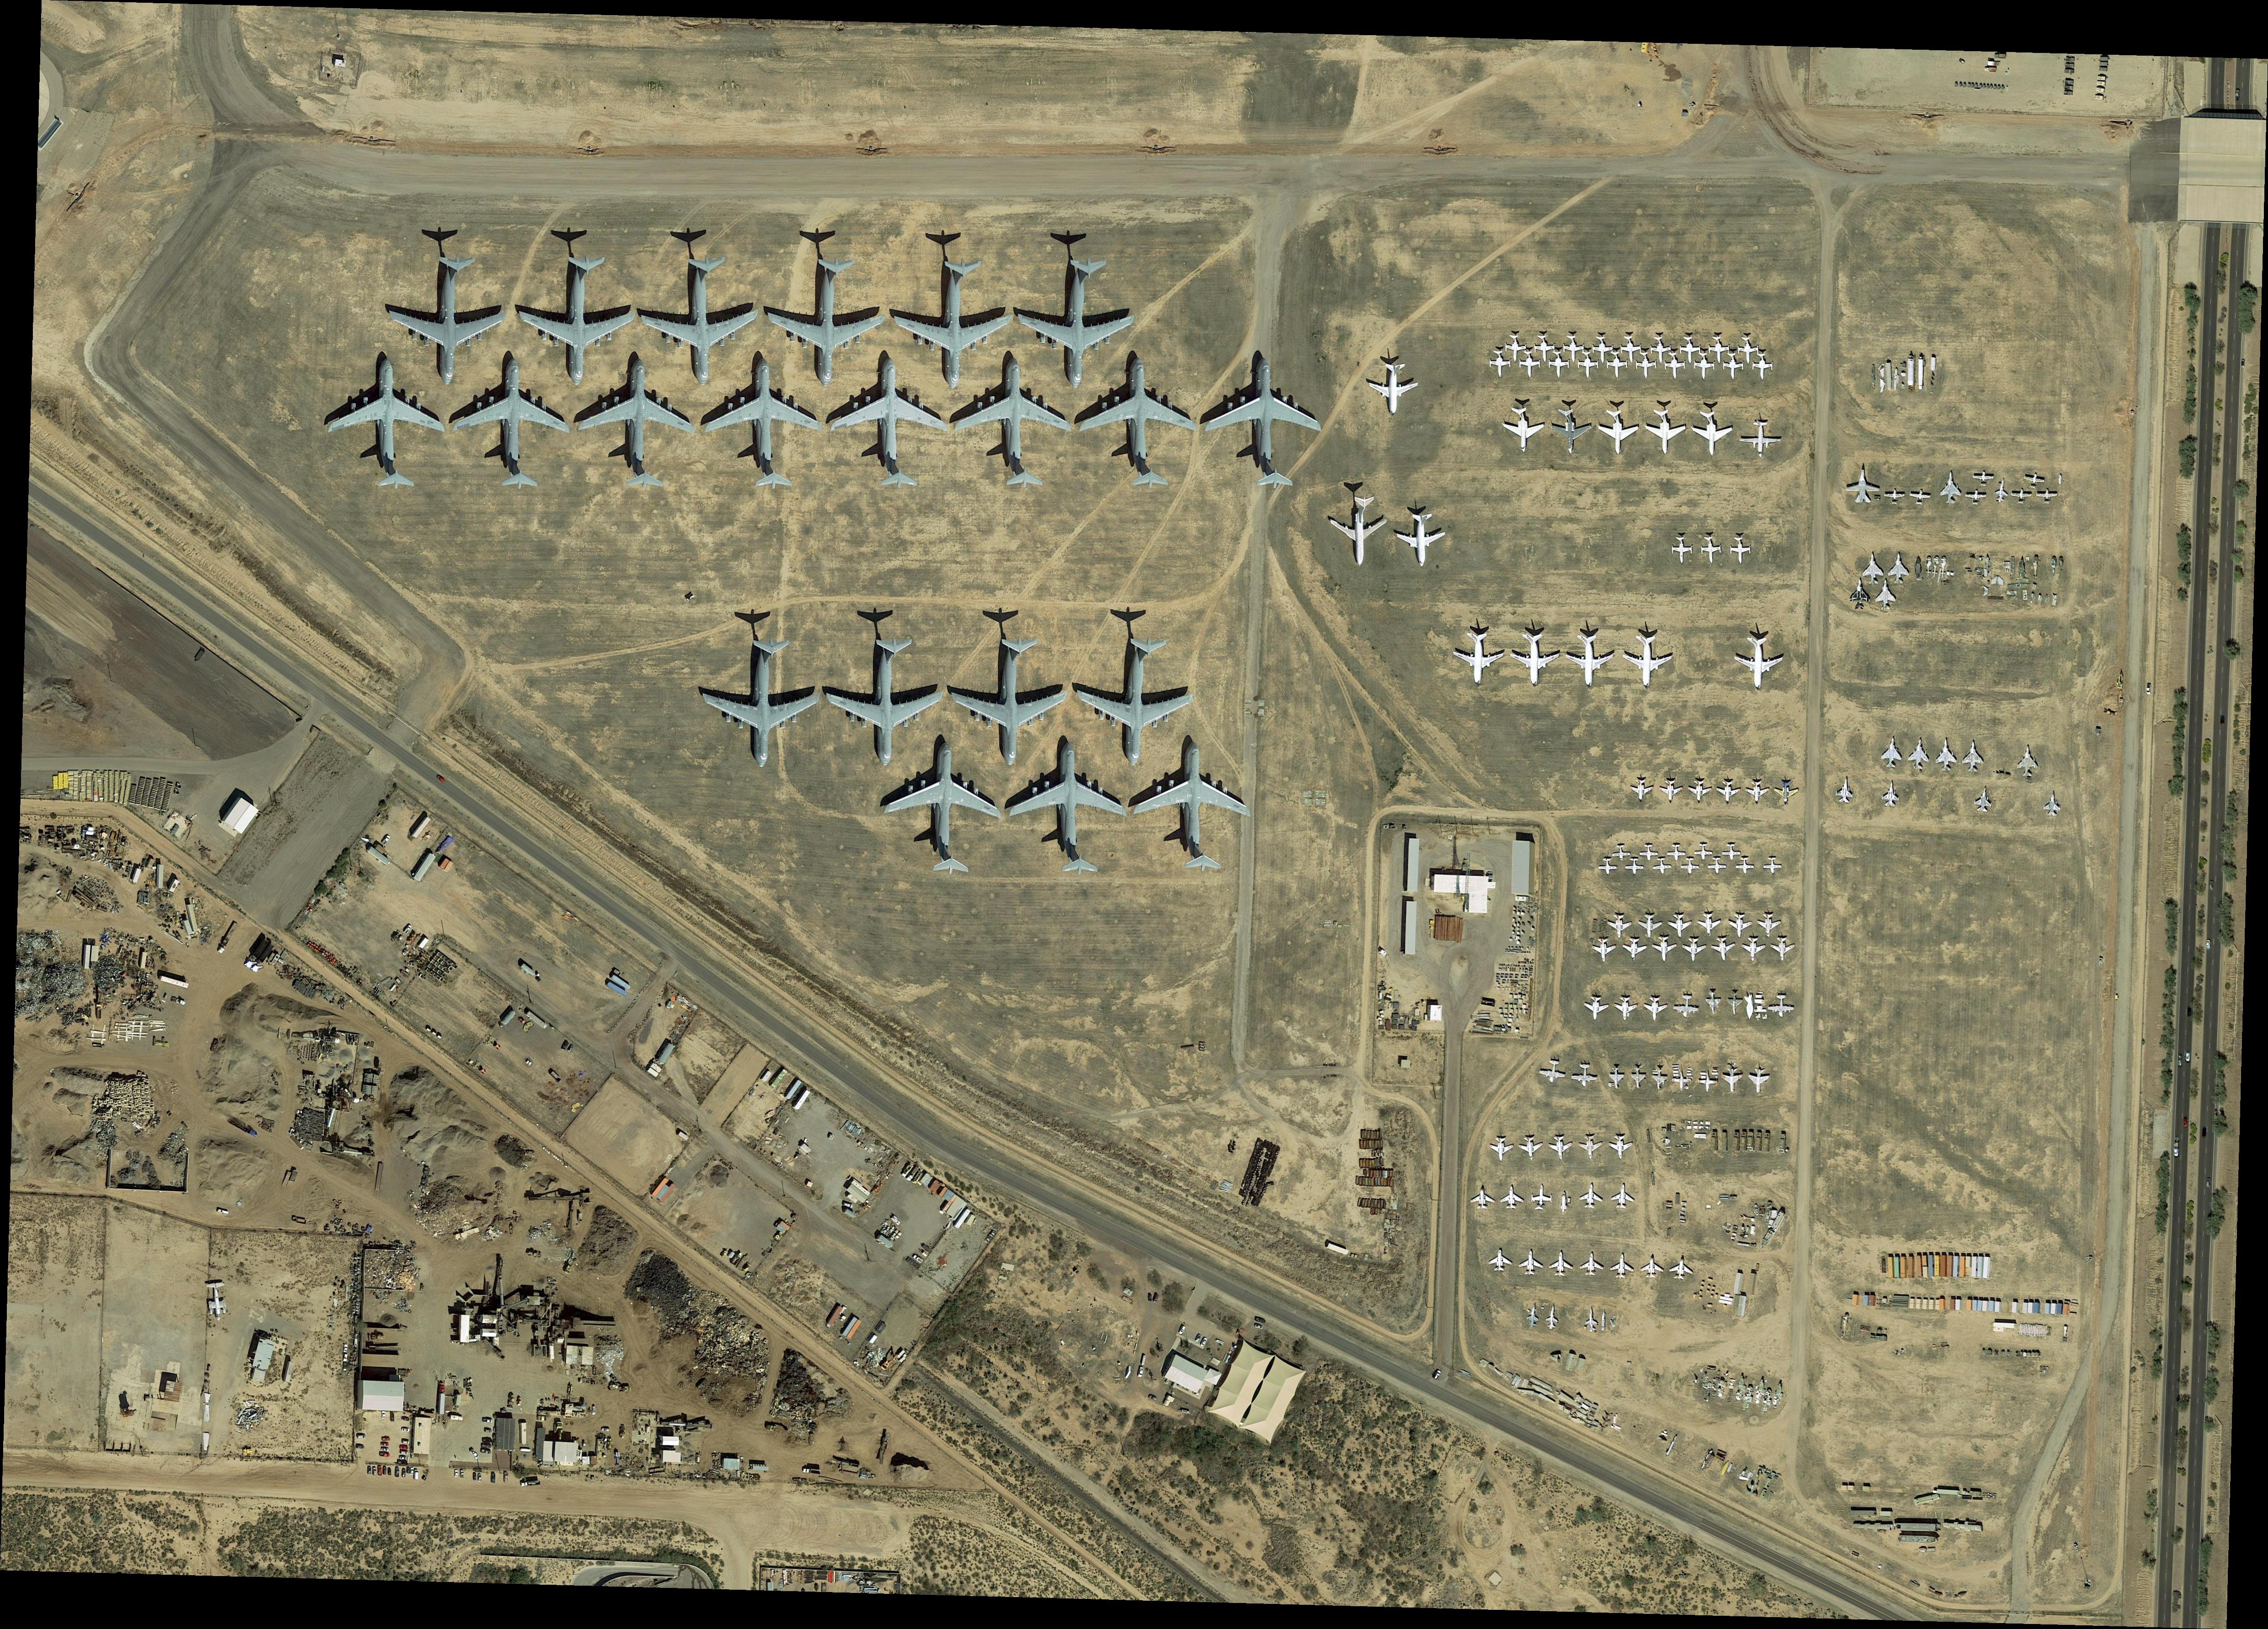plane: (882, 736, 1009, 877), (822, 636, 951, 773), (514, 255, 641, 394), (1199, 354, 1328, 490), (1005, 740, 1130, 879), (386, 252, 511, 391), (891, 255, 1018, 391), (764, 255, 891, 391), (639, 255, 766, 391), (574, 356, 701, 491), (1074, 354, 1201, 488), (949, 636, 1074, 771), (447, 354, 572, 490), (826, 352, 949, 488), (326, 354, 449, 490), (1018, 255, 1139, 393), (1072, 638, 1197, 770), (951, 354, 1074, 488), (701, 638, 822, 773), (1132, 740, 1252, 873), (704, 356, 824, 490), (1326, 495, 1389, 569), (1451, 630, 1506, 689), (1620, 634, 1675, 690), (1366, 363, 1419, 417), (1396, 512, 1447, 569), (1733, 636, 1784, 692), (1509, 634, 1560, 689), (1564, 634, 1615, 689), (1546, 407, 1594, 458), (1500, 405, 1544, 456), (1595, 409, 1641, 456), (1643, 409, 1687, 456), (1690, 410, 1733, 458), (1738, 417, 1782, 460), (1844, 461, 1881, 504), (204, 1280, 229, 1324), (1579, 993, 1611, 1023), (1535, 1058, 1569, 1087), (1879, 734, 1905, 770), (1907, 736, 1933, 771), (1962, 738, 1986, 775), (1608, 1182, 1638, 1212), (1939, 468, 1962, 505), (1935, 736, 1958, 773), (1710, 933, 1738, 963), (1685, 778, 1715, 807), (1588, 935, 1618, 963), (1747, 1065, 1773, 1097), (1847, 578, 1872, 611), (1888, 551, 1911, 586), (2016, 743, 2039, 778), (1650, 935, 1678, 963), (1518, 1134, 1546, 1162), (1620, 937, 1650, 963), (1766, 993, 1796, 1020), (1671, 993, 1701, 1020), (1720, 1064, 1745, 1095), (1972, 782, 1997, 814), (1861, 553, 1884, 586), (1741, 935, 1768, 963), (1726, 912, 1752, 940), (1696, 912, 1722, 940), (1638, 912, 1664, 940), (1606, 914, 1634, 940), (1571, 1062, 1599, 1088), (1578, 1182, 1604, 1210), (1548, 1134, 1576, 1161), (1578, 1250, 1604, 1279), (1609, 1252, 1636, 1280), (1706, 335, 1731, 365), (1692, 352, 1717, 382), (1648, 335, 1673, 365), (1504, 333, 1527, 365), (1875, 579, 1898, 611), (1682, 937, 1708, 963), (1770, 935, 1796, 962), (1756, 914, 1782, 940), (1666, 914, 1692, 940), (1773, 780, 1800, 807), (1745, 780, 1771, 807), (1488, 1136, 1514, 1162), (1578, 1134, 1604, 1161), (1643, 997, 1669, 1023), (1613, 997, 1639, 1023), (1657, 778, 1683, 805), (1629, 777, 1655, 803), (1518, 1249, 1544, 1275), (1548, 1250, 1574, 1277), (1669, 1254, 1696, 1280), (1715, 780, 1743, 805), (1606, 1136, 1634, 1161), (1696, 1067, 1720, 1095), (1546, 352, 1571, 380), (1532, 335, 1557, 363), (1530, 1183, 1553, 1213), (1671, 535, 1694, 565), (1699, 535, 1722, 565), (1736, 336, 1759, 366), (1722, 352, 1745, 382), (1678, 336, 1701, 366), (1664, 350, 1687, 380), (1634, 350, 1657, 380), (1620, 335, 1643, 365), (1606, 350, 1629, 380), (1592, 335, 1615, 365), (1562, 335, 1585, 365), (1518, 350, 1541, 380), (1488, 349, 1511, 379), (1835, 775, 1858, 805), (1498, 1185, 1525, 1210), (1639, 1254, 1666, 1279), (1469, 1187, 1497, 1210), (1729, 537, 1752, 565), (1752, 352, 1775, 380), (1488, 1249, 1514, 1272), (1576, 352, 1599, 379), (1881, 780, 1902, 808), (2043, 789, 2064, 817), (2021, 470, 2048, 491), (1907, 486, 1933, 507), (1671, 1069, 1692, 1094), (1992, 477, 2011, 504), (1523, 1301, 1543, 1328), (1650, 1067, 1669, 1092), (1963, 488, 1988, 507), (1608, 1065, 1625, 1092), (1629, 1064, 1646, 1090), (1727, 990, 1745, 1016), (1652, 854, 1673, 875), (1882, 486, 1905, 505), (1705, 991, 1722, 1016), (1585, 1305, 1599, 1335), (1544, 1303, 1560, 1330), (1734, 856, 1756, 875), (1706, 856, 1727, 875), (1638, 844, 1659, 863), (1597, 858, 1618, 877), (2011, 488, 2034, 505), (2036, 488, 2058, 505), (1972, 470, 1995, 488), (1763, 856, 1782, 875), (1611, 842, 1631, 861), (1692, 844, 1713, 861), (1666, 844, 1687, 861), (1624, 858, 1645, 875), (1722, 844, 1741, 861), (1680, 858, 1699, 875)
